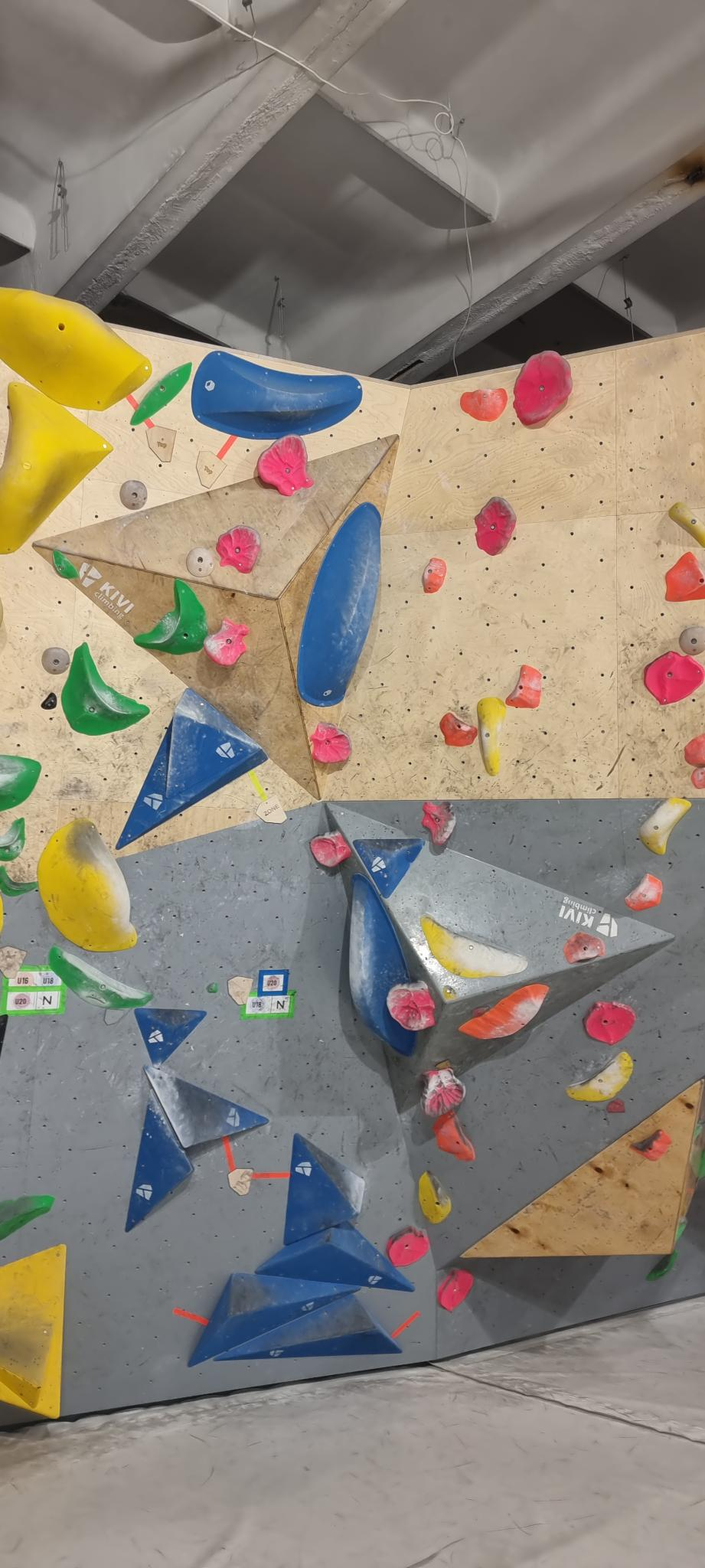hold: (117, 690, 266, 849), (0, 383, 112, 554), (0, 288, 152, 411), (297, 503, 381, 707), (189, 1273, 361, 1367), (192, 350, 362, 440), (37, 819, 136, 951), (213, 1294, 403, 1361), (349, 873, 417, 1056), (254, 1221, 415, 1292), (0, 1245, 65, 1418), (143, 1065, 270, 1149), (125, 1087, 195, 1233), (284, 1132, 366, 1245), (61, 643, 149, 735), (421, 916, 528, 978), (49, 946, 152, 1009), (134, 579, 208, 654), (460, 984, 549, 1040), (134, 1008, 208, 1069), (353, 839, 427, 899), (514, 352, 573, 426), (131, 363, 192, 426), (257, 436, 314, 496), (567, 1052, 634, 1103), (644, 651, 704, 705), (639, 797, 692, 855), (475, 497, 517, 555), (0, 1195, 54, 1240), (386, 982, 435, 1031), (0, 755, 41, 811), (584, 1001, 636, 1045), (477, 697, 506, 775), (422, 1067, 466, 1118), (216, 525, 261, 574), (203, 619, 249, 666), (433, 1111, 475, 1161), (666, 552, 704, 602), (387, 1227, 430, 1268), (310, 722, 352, 763), (419, 1172, 451, 1224), (669, 502, 704, 548), (506, 664, 542, 708), (460, 388, 508, 421), (310, 831, 352, 868), (437, 1269, 473, 1312), (422, 802, 456, 846), (626, 874, 663, 911), (564, 932, 606, 964), (440, 712, 478, 747), (631, 1130, 672, 1161), (0, 864, 37, 897), (0, 818, 25, 862), (647, 1249, 678, 1281), (422, 558, 447, 593), (186, 547, 215, 577), (120, 480, 147, 510), (42, 647, 70, 675), (53, 549, 78, 580), (0, 946, 24, 978), (679, 626, 704, 656), (228, 976, 253, 1006), (228, 1168, 253, 1196), (685, 733, 704, 766), (675, 1218, 687, 1245), (606, 1097, 625, 1114), (691, 766, 704, 789), (41, 692, 57, 710), (443, 987, 457, 1000), (206, 982, 218, 994)
volume: (32, 430, 401, 803), (327, 802, 681, 1115), (460, 1077, 705, 1255)
